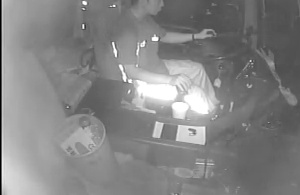cup: (170, 101, 190, 118)
